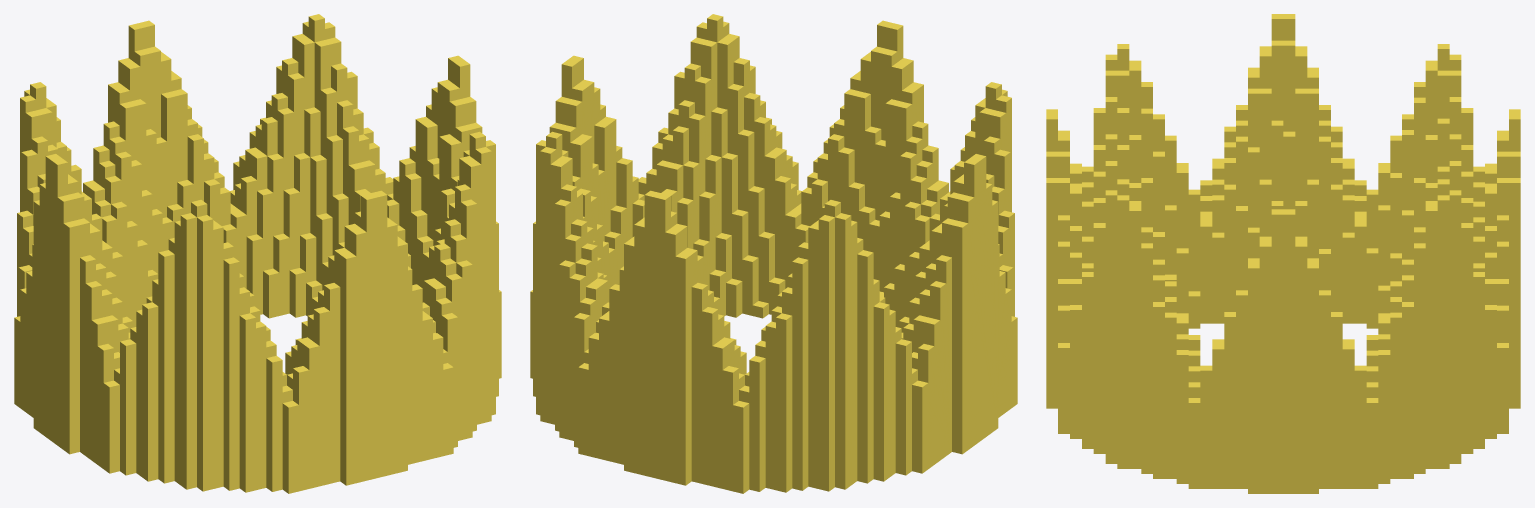
File: crown-0-Crown.obj
3 renders of one model, left to right at view 1: azimuth 30°, elevation 25°; view 2: azimuth 150°, elevation 25°; view 3: azimuth 270°, elevation 25°, orthographic.
Visible parts, largest first — view 1: Crown; view 2: Crown; view 3: Crown.
Part boxes in pixels (x1,y1,x2,y2): Crown: [14, 14, 501, 493]; Crown: [530, 14, 1017, 493]; Crown: [1046, 14, 1520, 493].
Size of the model in its own units: 4 by 2.6 by 4.
1 material, 1 textured.
